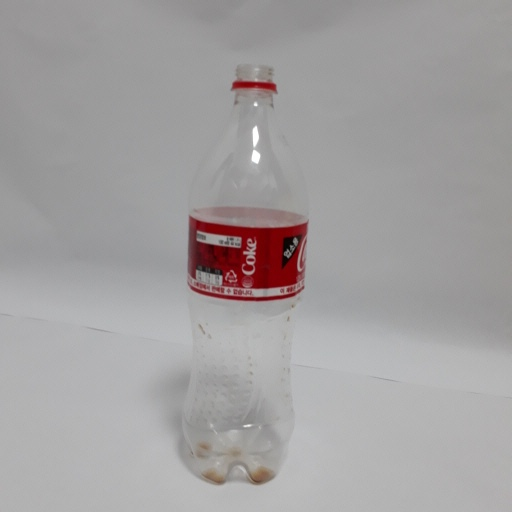Plastic_0: (178, 59, 313, 494)
